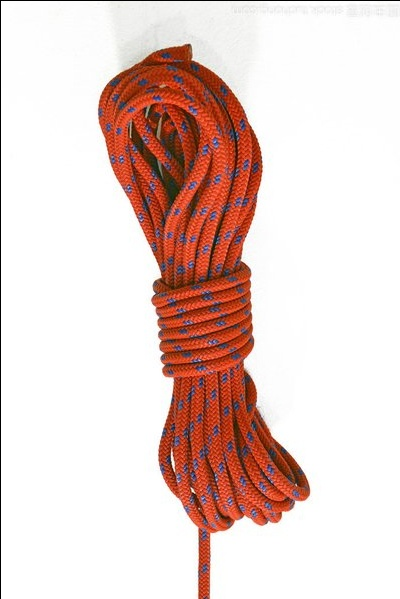9/可回收垃圾/绳子: (96, 44, 311, 599)
